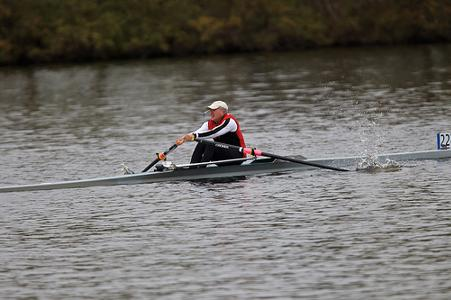person: (177, 101, 247, 169)
